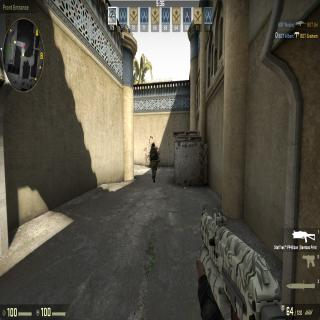CT-Body: (150, 142, 157, 183)
CT-Head: (152, 142, 156, 147)
